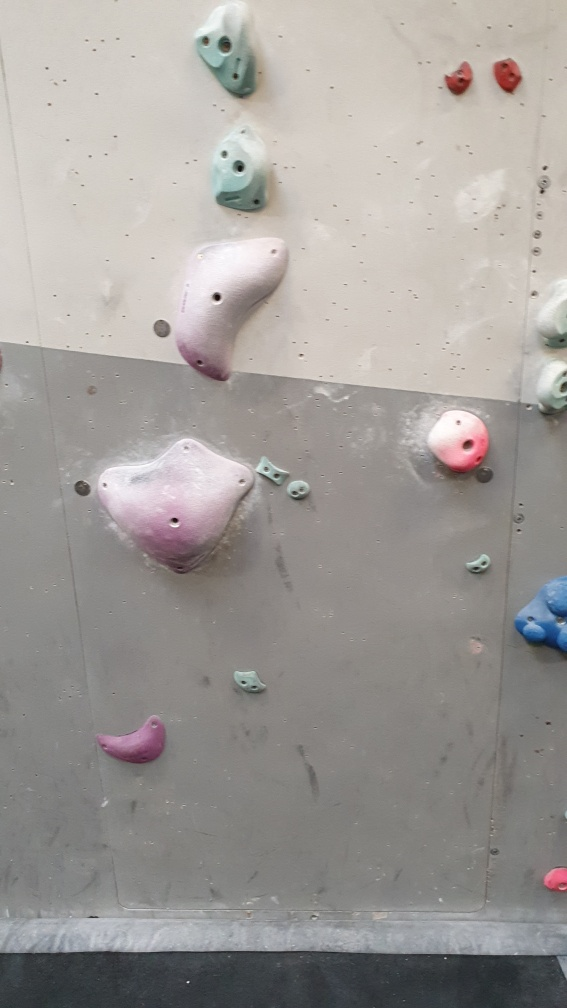Hand Start: (470, 460, 499, 490), (71, 474, 98, 504), (151, 314, 173, 341)
Jug: (190, 1, 264, 102), (206, 118, 275, 211)
Pinch: (250, 459, 293, 492)
Sloper: (512, 576, 567, 654)
